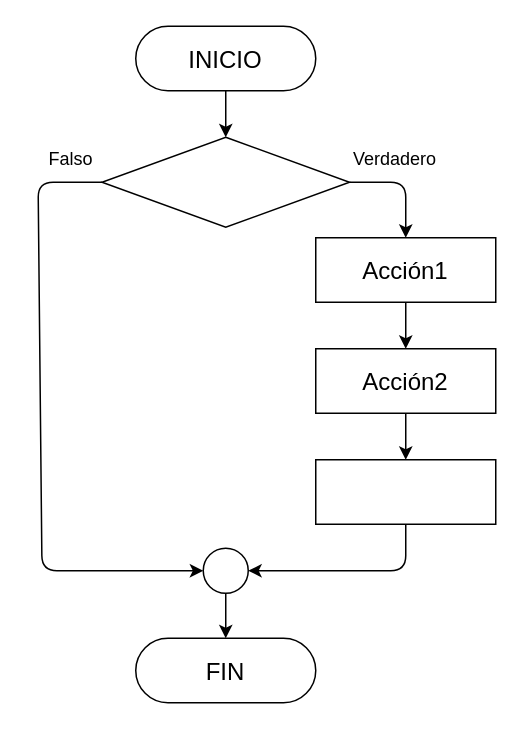
The diagram is 522 pixels wide and 729 high, and some of its shapes have lost their labels. Here are the shapes that lost their labels. From the top down, the centre of each, then its label:
(x=225, y=181): condicion
(x=405, y=491): AcciónN
